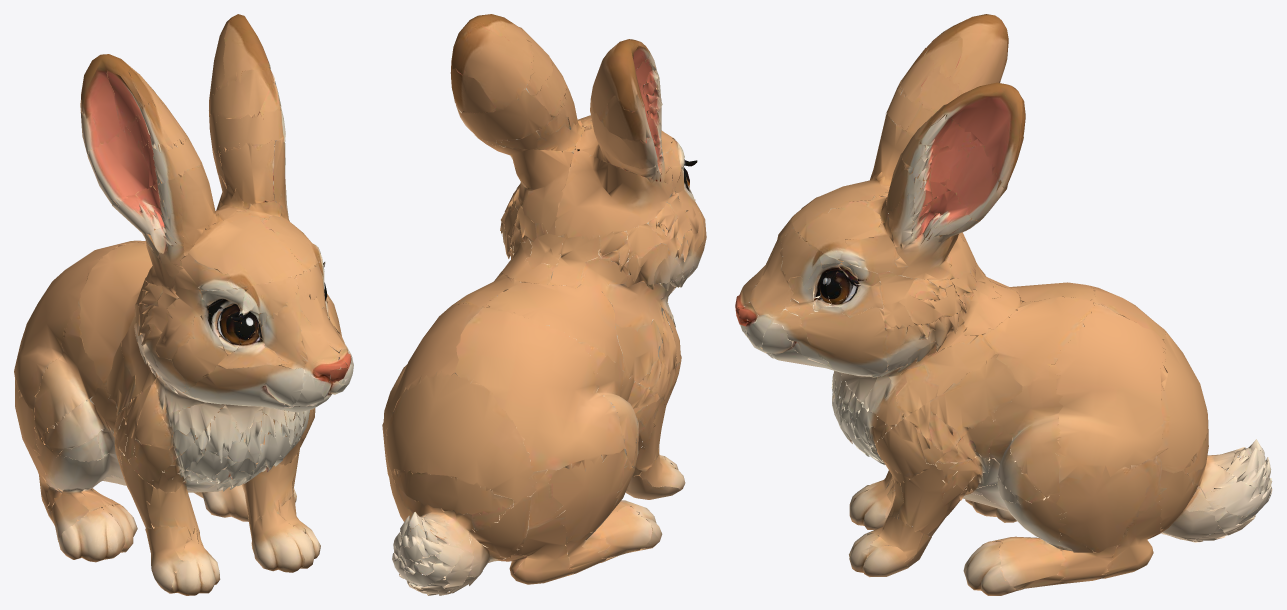
The model's file is rabbit.glb.
The picture shows the model from 3 angles, left to right: view 1: azimuth 30°, elevation 25°; view 2: azimuth 150°, elevation 25°; view 3: azimuth 270°, elevation 25°; orthographic projection.
Parts seen in each view (by area): view 1: rabbit; view 2: rabbit; view 3: rabbit.
Boxes of the visible parts, <box> form: rabbit: <box>14,14,353,595</box>; rabbit: <box>382,14,706,595</box>; rabbit: <box>735,14,1272,595</box>.
Bounding box in the file's own units: 0.9693 × 2 × 1.98.
Materials: 1 (1 with a texture image).
